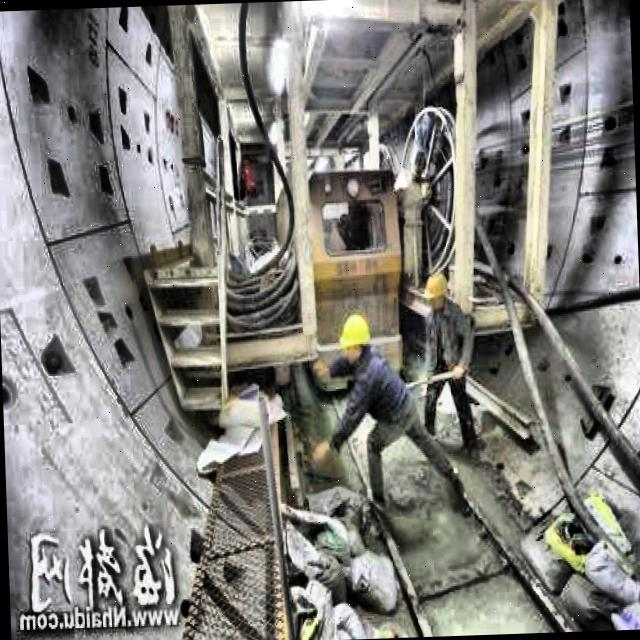helmet: (338, 308, 372, 369), (420, 270, 454, 314)
